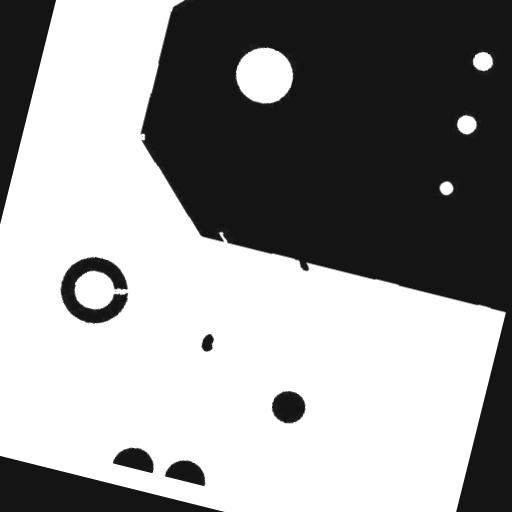copper: (190, 324, 224, 362)
mousebite: (206, 222, 242, 256), (128, 124, 155, 150)
open: (98, 274, 142, 308)
pin-hole: (428, 170, 464, 206)
spur: (287, 247, 320, 280)
